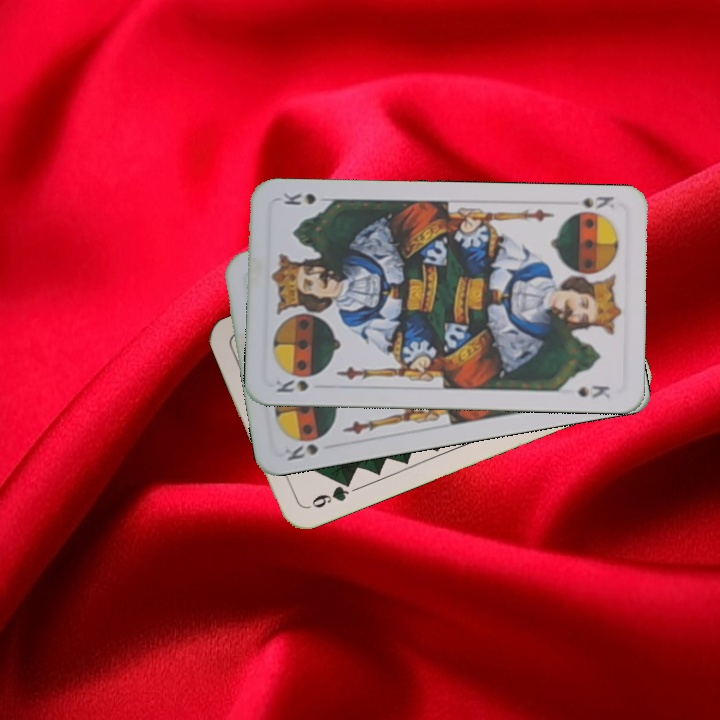G9: (300, 475, 355, 512)
SK: (281, 440, 321, 463), (271, 375, 311, 395), (578, 192, 616, 212)
